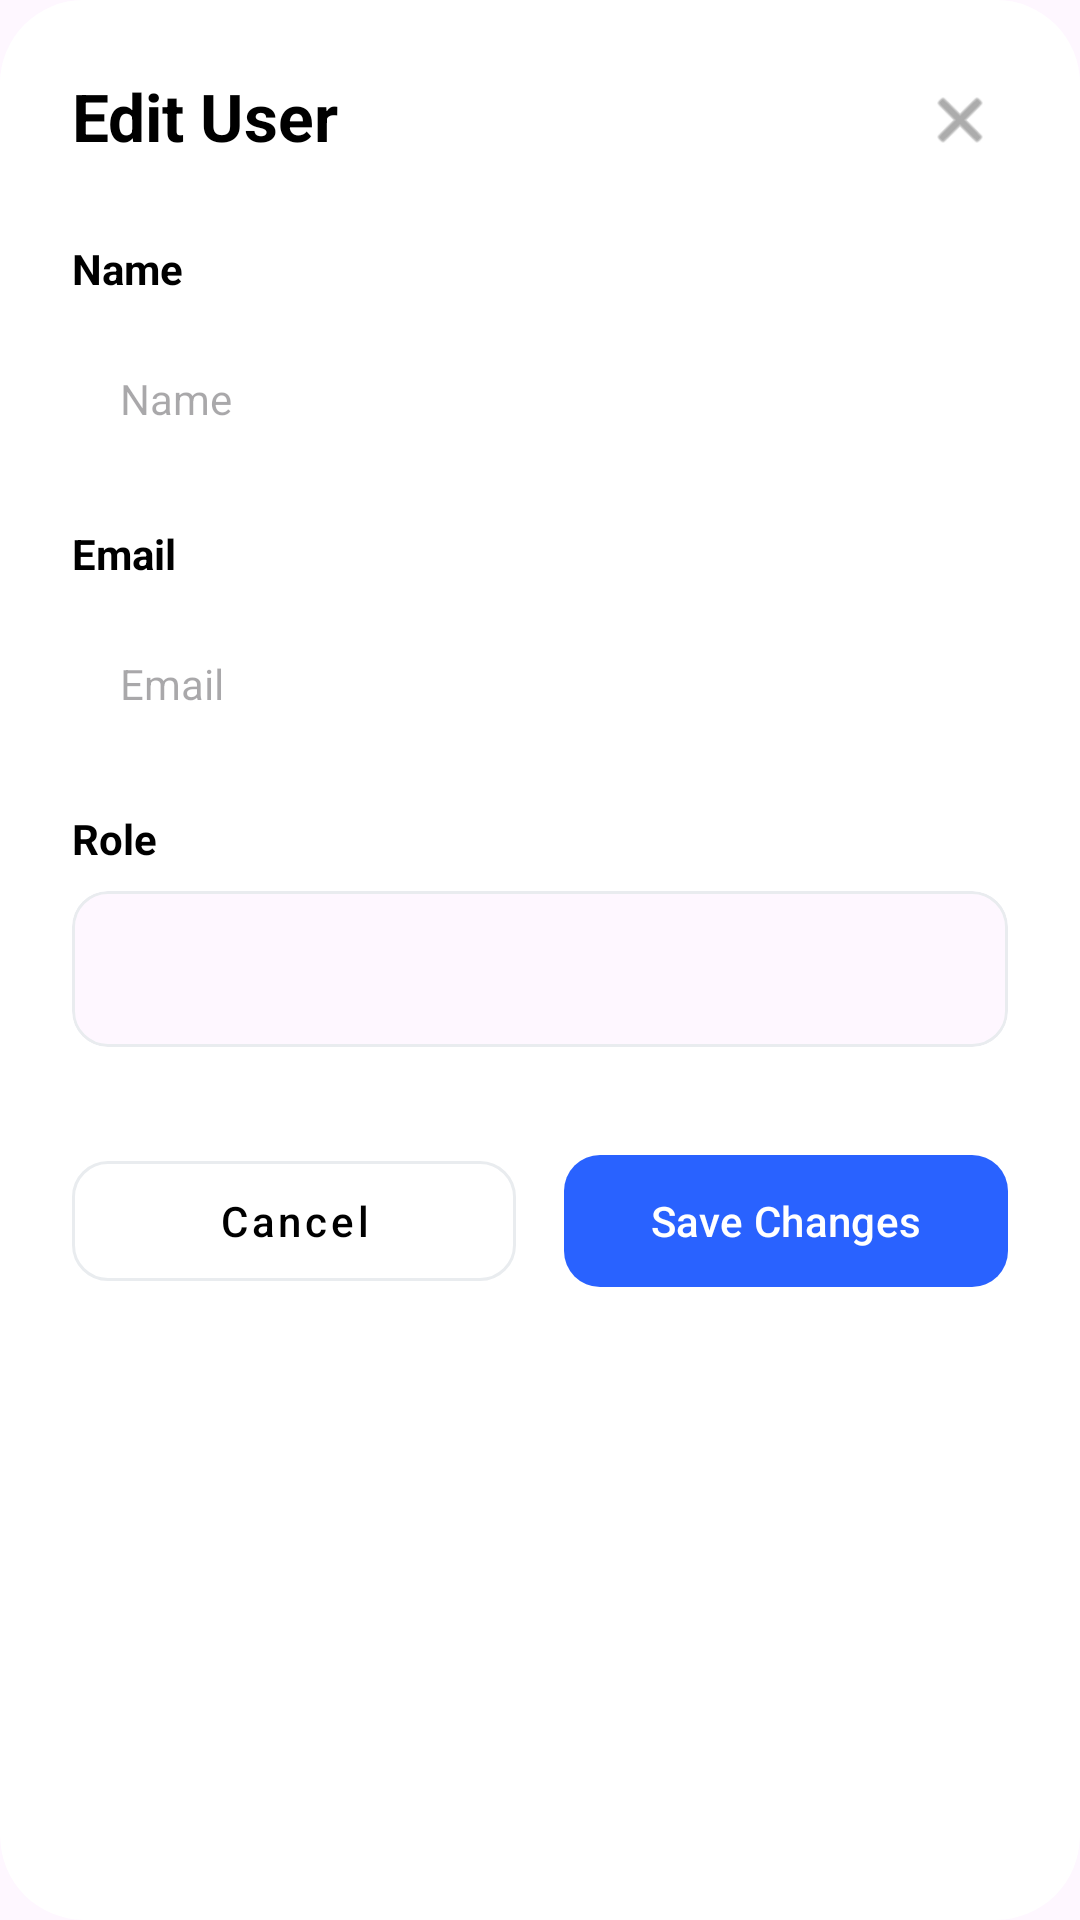

Locate icon controls on the screen. Image size 1080*1920, boxes as [left=x1, top=y1, right=x2, bottom=y2].
close clear cancel: [left=938, top=98, right=982, bottom=142]
